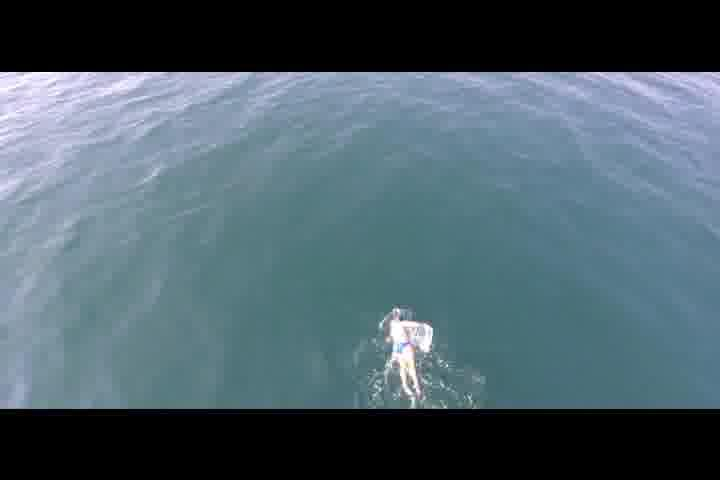human: (382, 308, 437, 406)
